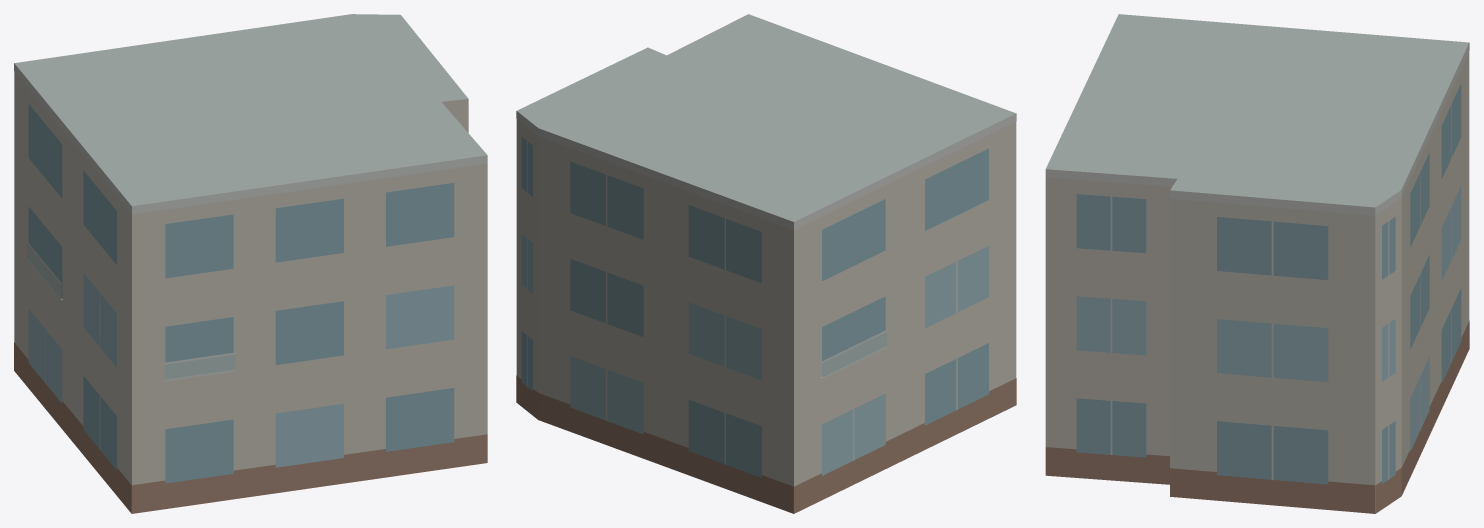
The model's file is survey-upis-32687991.glb.
The picture shows the model from 3 angles, left to right: view 1: azimuth 30°, elevation 25°; view 2: azimuth 150°, elevation 25°; view 3: azimuth 270°, elevation 25°; orthographic projection. The views are drawn at different scales.
Parts seen in each view (by area): view 1: survey-upis-32687991.tmp; view 2: survey-upis-32687991.tmp; view 3: survey-upis-32687991.tmp.
Part boxes in pixels (left/top/right/bottom): survey-upis-32687991.tmp: left=14, top=14, right=487, bottom=513; survey-upis-32687991.tmp: left=516, top=14, right=1016, bottom=513; survey-upis-32687991.tmp: left=1045, top=14, right=1469, bottom=513.
Size of the model in its own units: 12.33 by 9.1 by 11.42.
